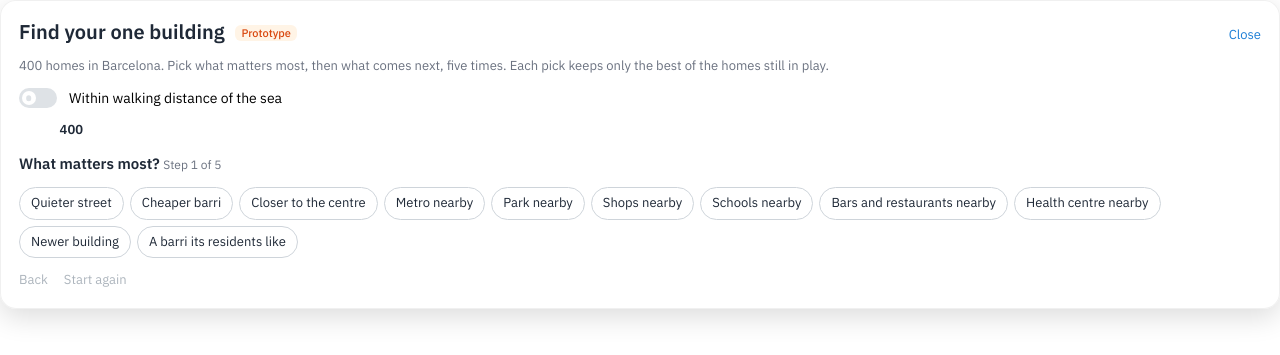
Test case: FunnelPanel › shows what each step kept, in the unit of the wish
The image size is (1280, 355).
Step 1. Click the button "Quieter street" → (71, 203), box x1=19 y1=187 x2=124 y2=220
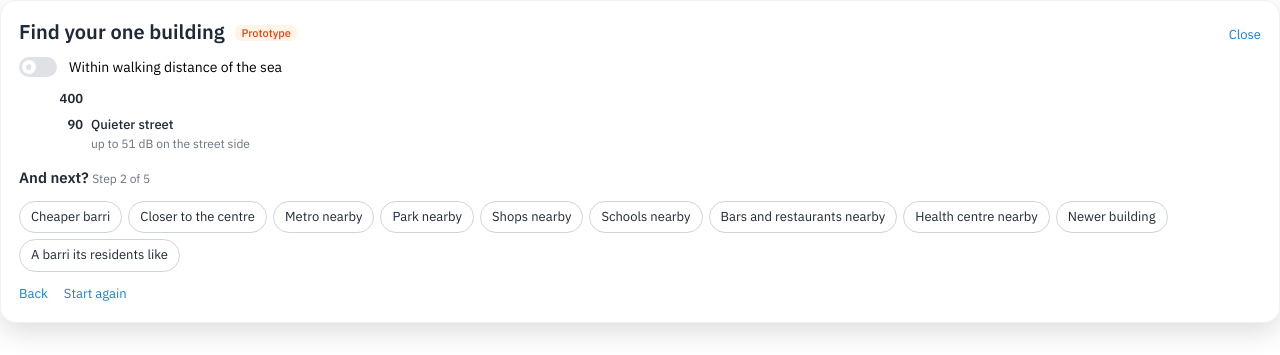
Result: the text "up to 51 dB on the street side" is shown at x1=91 y1=136 x2=250 y2=151
Result: the text "And next?" is shown at x1=19 y1=168 x2=89 y2=187
